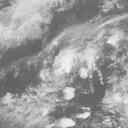cyclone: (52, 45, 82, 77)
